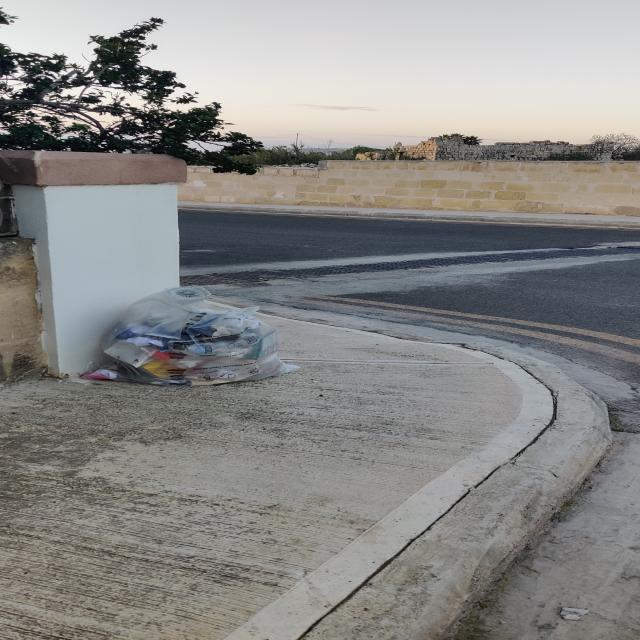Recyclable Material -Grey Bags-: (81, 282, 309, 388)
